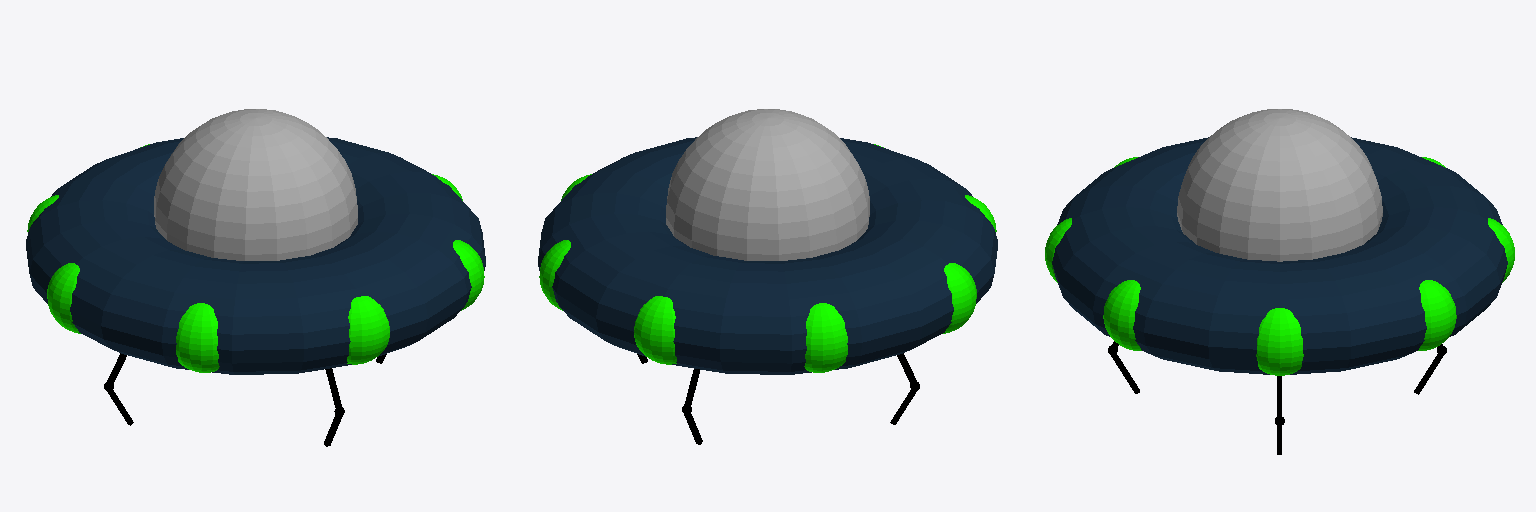
Rendered from Lunar_Lander_lander_texture.obj.
The picture shows the model from 3 angles: view 1: azimuth 30°, elevation 25°; view 2: azimuth 150°, elevation 25°; view 3: azimuth 270°, elevation 25°; orthographic projection.
Parts seen in each view (by area): view 1: polySurface1 polySurface20, polySurface19 polySurface1, pSphere21, polySurface15, polySurface7; view 2: polySurface1 polySurface20, polySurface19 polySurface1, pSphere21, polySurface11, polySurface7; view 3: polySurface1 polySurface20, polySurface19 polySurface1, pSphere21.
Part boxes in pixels (x1,y1,x2,y2): polySurface1 polySurface20: (26, 137, 485, 374); polySurface19 polySurface1: (154, 109, 357, 260); pSphere21: (27, 144, 484, 372); polySurface15: (324, 368, 344, 446); polySurface7: (104, 353, 133, 425); polySurface1 polySurface20: (538, 137, 997, 374); polySurface19 polySurface1: (666, 109, 869, 260); pSphere21: (539, 144, 996, 372); polySurface11: (682, 369, 702, 444); polySurface7: (890, 353, 919, 424); polySurface1 polySurface20: (1052, 137, 1507, 374); polySurface19 polySurface1: (1177, 109, 1382, 261); pSphere21: (1045, 157, 1514, 375).
Size of the model in its own units: 9.15 by 5.9 by 9.15.